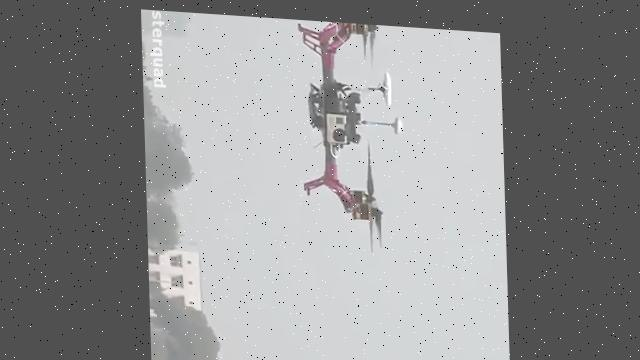drone: (294, 15, 406, 251)
